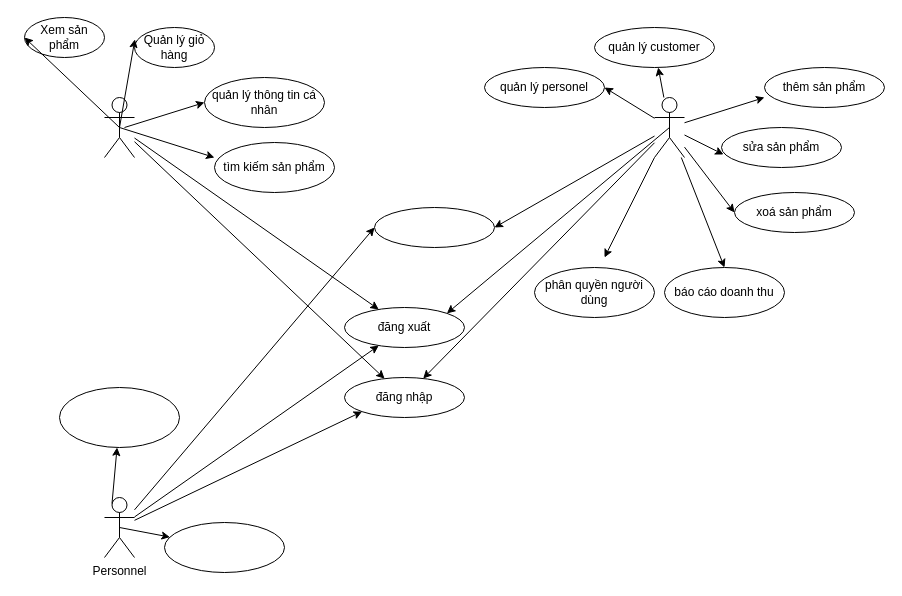
The diagram is 902 pixels wide and 596 high, and some of its shapes have lost their labels. The centre of each missing label's shape, as x and y in pixels:
Admin: point (669, 127)
Customer: point (119, 127)
hỗ trợ customer: point (119, 417)
quản lý danh mục sản phẩm: point (434, 227)
sử lý đơn hàng: point (224, 547)
